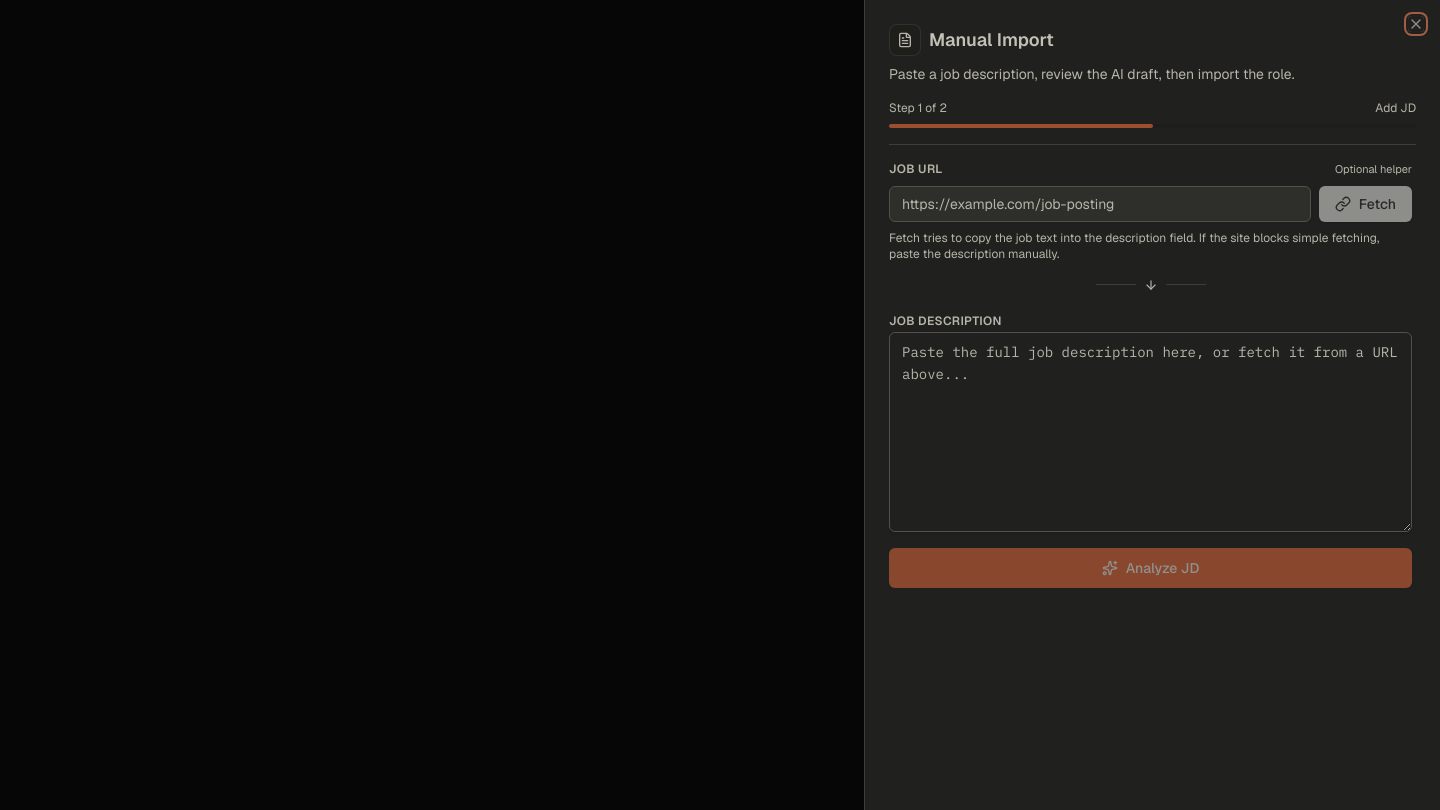
Test: ManualImportSheet › URL fetch functionality › fetches URL content into the job description without analyzing
This screenshot has width=1440, height=810.
Type "https://example.com/job" into the field with placeholder "https://example.com/job-posting" at [1100, 204], box x1=889 y1=186 x2=1311 y2=222
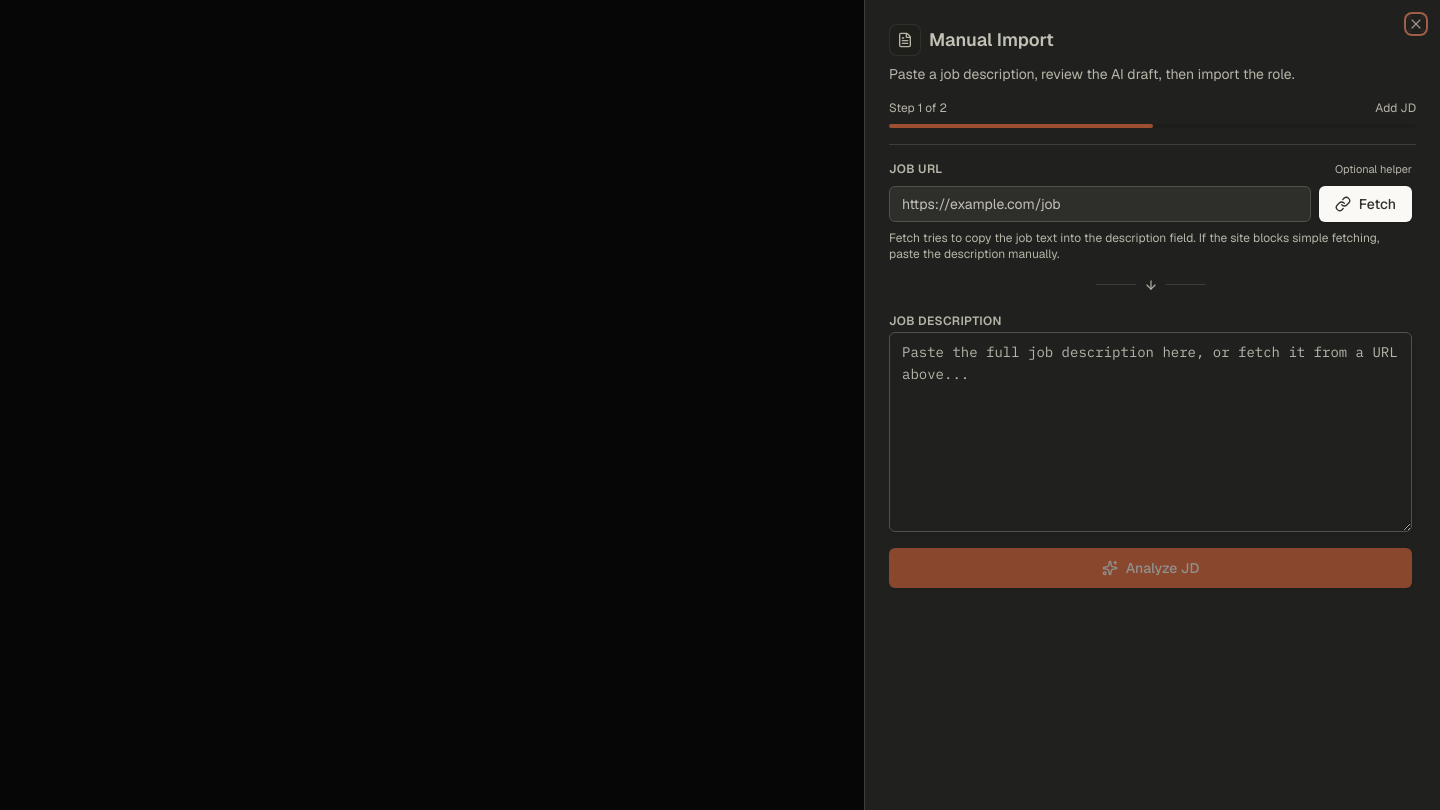
Click the button "Fetch" at [1365, 204], box x1=1319 y1=186 x2=1412 y2=222
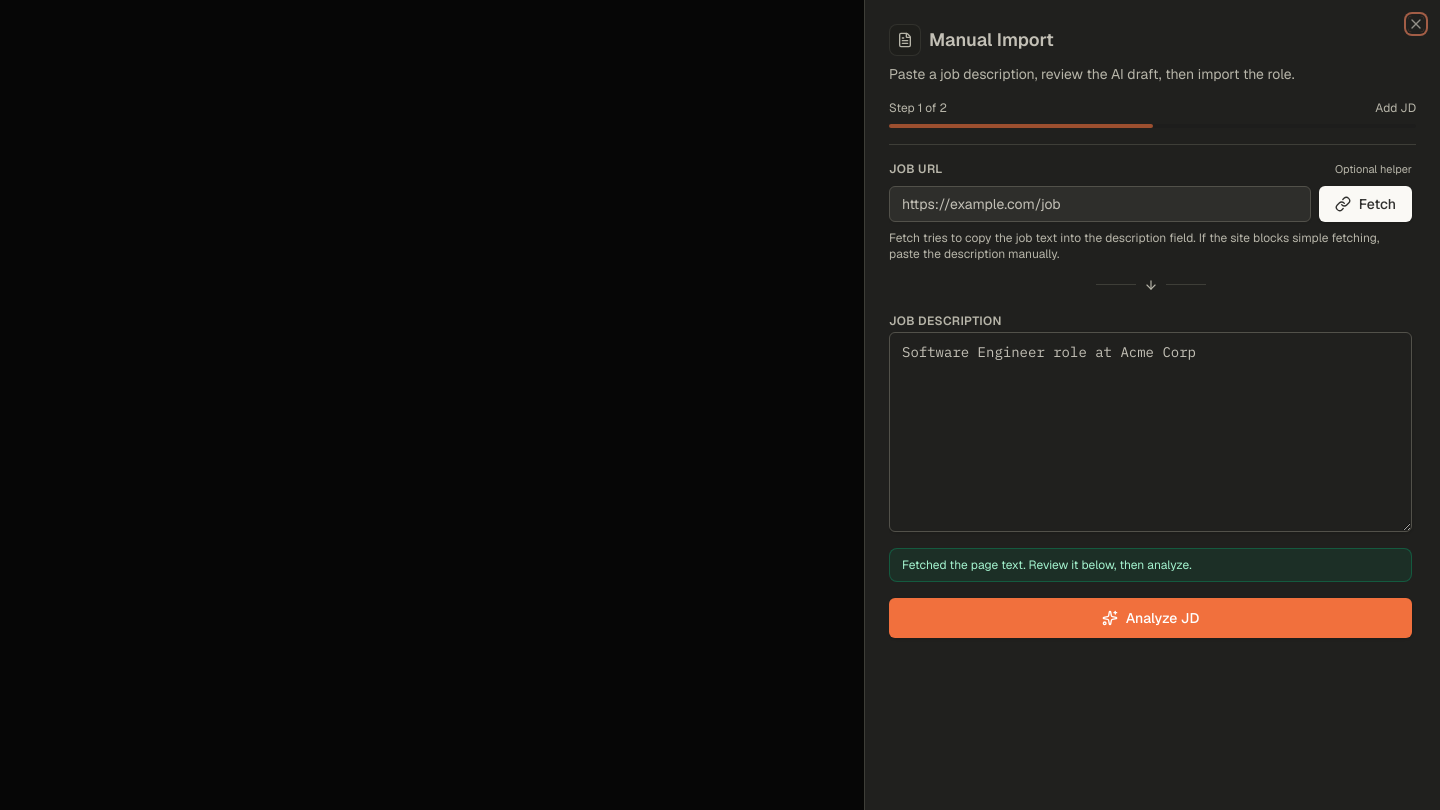
expect the text "Fetched the page text. Review it below, then analyze." is shown: met, box x1=889 y1=548 x2=1412 y2=582
expect the text box with placeholder "Paste the full job description here, or fetch it from a URL above..." holds "Software Engineer role at Acme Corp": met, box x1=889 y1=332 x2=1412 y2=532
